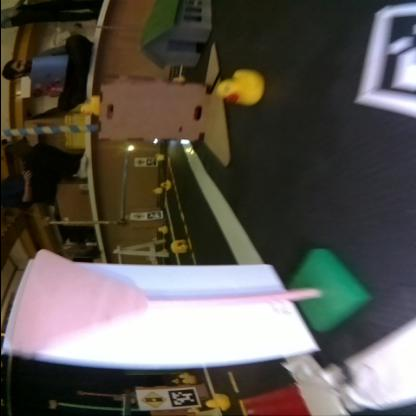Duckie: (217, 70, 261, 106), (206, 392, 228, 410), (80, 96, 98, 114), (170, 239, 186, 253), (180, 374, 194, 384), (160, 180, 170, 188), (156, 226, 165, 231)
Intersection sign: (130, 213, 144, 219)
QR code: (352, 5, 412, 115), (166, 390, 198, 406), (145, 211, 159, 219)
Signal sign: (138, 391, 164, 409)
Traffic light: (124, 145, 132, 150)
